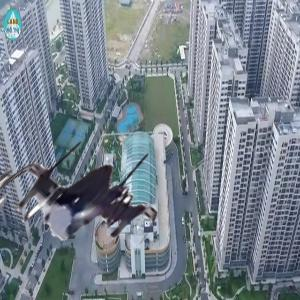drone: (18, 110, 175, 267)
